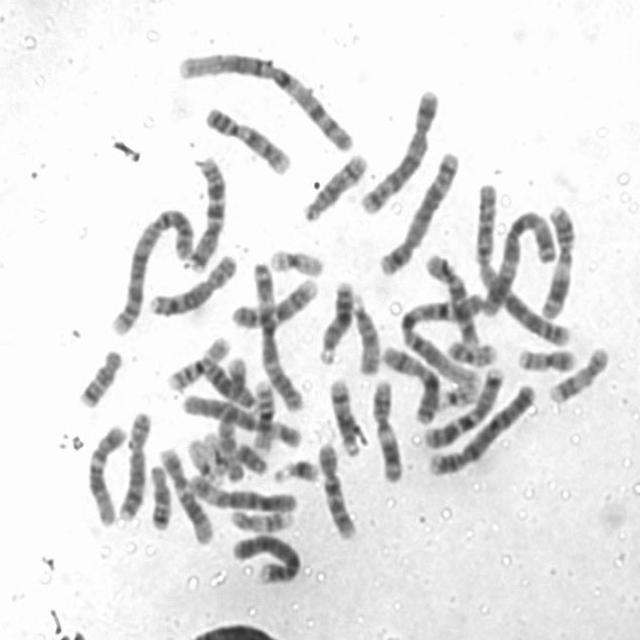A1: (173, 45, 358, 154), (396, 290, 488, 386)
A2: (471, 185, 573, 346), (107, 200, 198, 338)
A3: (476, 206, 559, 319), (249, 254, 306, 412)
B4: (424, 376, 539, 478), (226, 527, 304, 585)
B5: (375, 144, 463, 277), (355, 82, 441, 217)
C10: (420, 247, 482, 349), (313, 437, 360, 542)
C11: (536, 199, 578, 320), (367, 374, 406, 485)
C12: (156, 441, 218, 546), (82, 420, 128, 528)
C6: (176, 388, 306, 450), (185, 467, 302, 514)
C7: (419, 363, 507, 449), (184, 150, 230, 273)
C8: (144, 248, 239, 318), (116, 405, 154, 522)
C9: (200, 99, 295, 176), (229, 271, 323, 330)
D13: (314, 274, 356, 365), (200, 352, 260, 412)
D14: (297, 146, 370, 225), (325, 373, 364, 458)
D15: (348, 289, 382, 377), (214, 409, 246, 484)
E16: (162, 331, 232, 393), (248, 374, 277, 454)
E17: (546, 342, 612, 406), (226, 504, 296, 533)
E18: (74, 342, 124, 410), (146, 459, 173, 532)
F19: (183, 431, 226, 485), (265, 242, 327, 278)
F20: (514, 341, 578, 374), (444, 335, 498, 367)
G21: (270, 453, 322, 485), (224, 356, 248, 401)
G22: (434, 374, 482, 411), (198, 426, 226, 482)
X: (378, 339, 443, 426)
Y: (232, 436, 270, 476)
